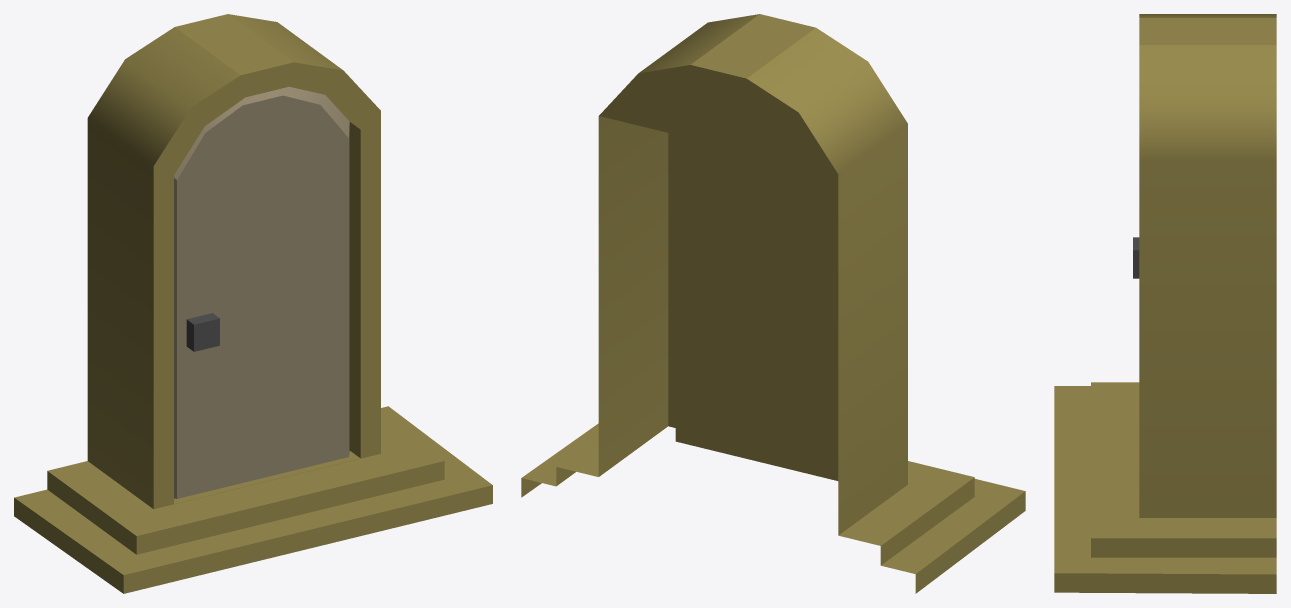
The model's file is LockedDoor.fbx.
3 views of the same model, side by side, from view 1: azimuth 30°, elevation 25°; view 2: azimuth 150°, elevation 25°; view 3: azimuth 270°, elevation 25° (orthographic). The views are drawn at different scales.
Visible parts, largest first — view 1: polySurface18; view 2: polySurface18; view 3: polySurface18.
Part boxes in pixels (<box>): polySurface18: <box>14,14,492,593</box>; polySurface18: <box>521,14,1025,593</box>; polySurface18: <box>1054,14,1276,593</box>.
Size of the model in its own units: 3.27 by 3.76 by 1.62.
